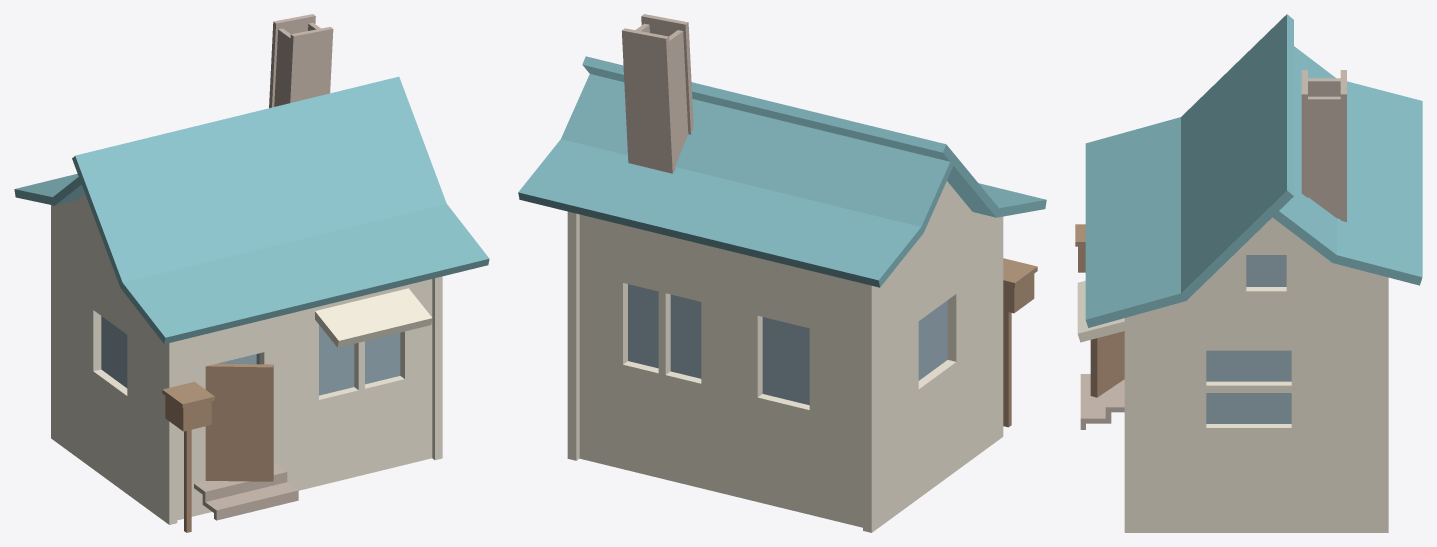
File: folded_letter.glb
3 renders of one model, left to right at view 1: azimuth 30°, elevation 25°; view 2: azimuth 150°, elevation 25°; view 3: azimuth 270°, elevation 25°, orthographic. The views are drawn at different scales.
Visible parts, largest first — view 1: folded_letter; view 2: folded_letter; view 3: folded_letter.
Boxes of the visible parts, bbox=[...] form: folded_letter: bbox=[14, 14, 489, 532]; folded_letter: bbox=[518, 14, 1046, 532]; folded_letter: bbox=[1075, 14, 1422, 532].
Size of the model in its own units: 1.66 by 1.86 by 1.38.
